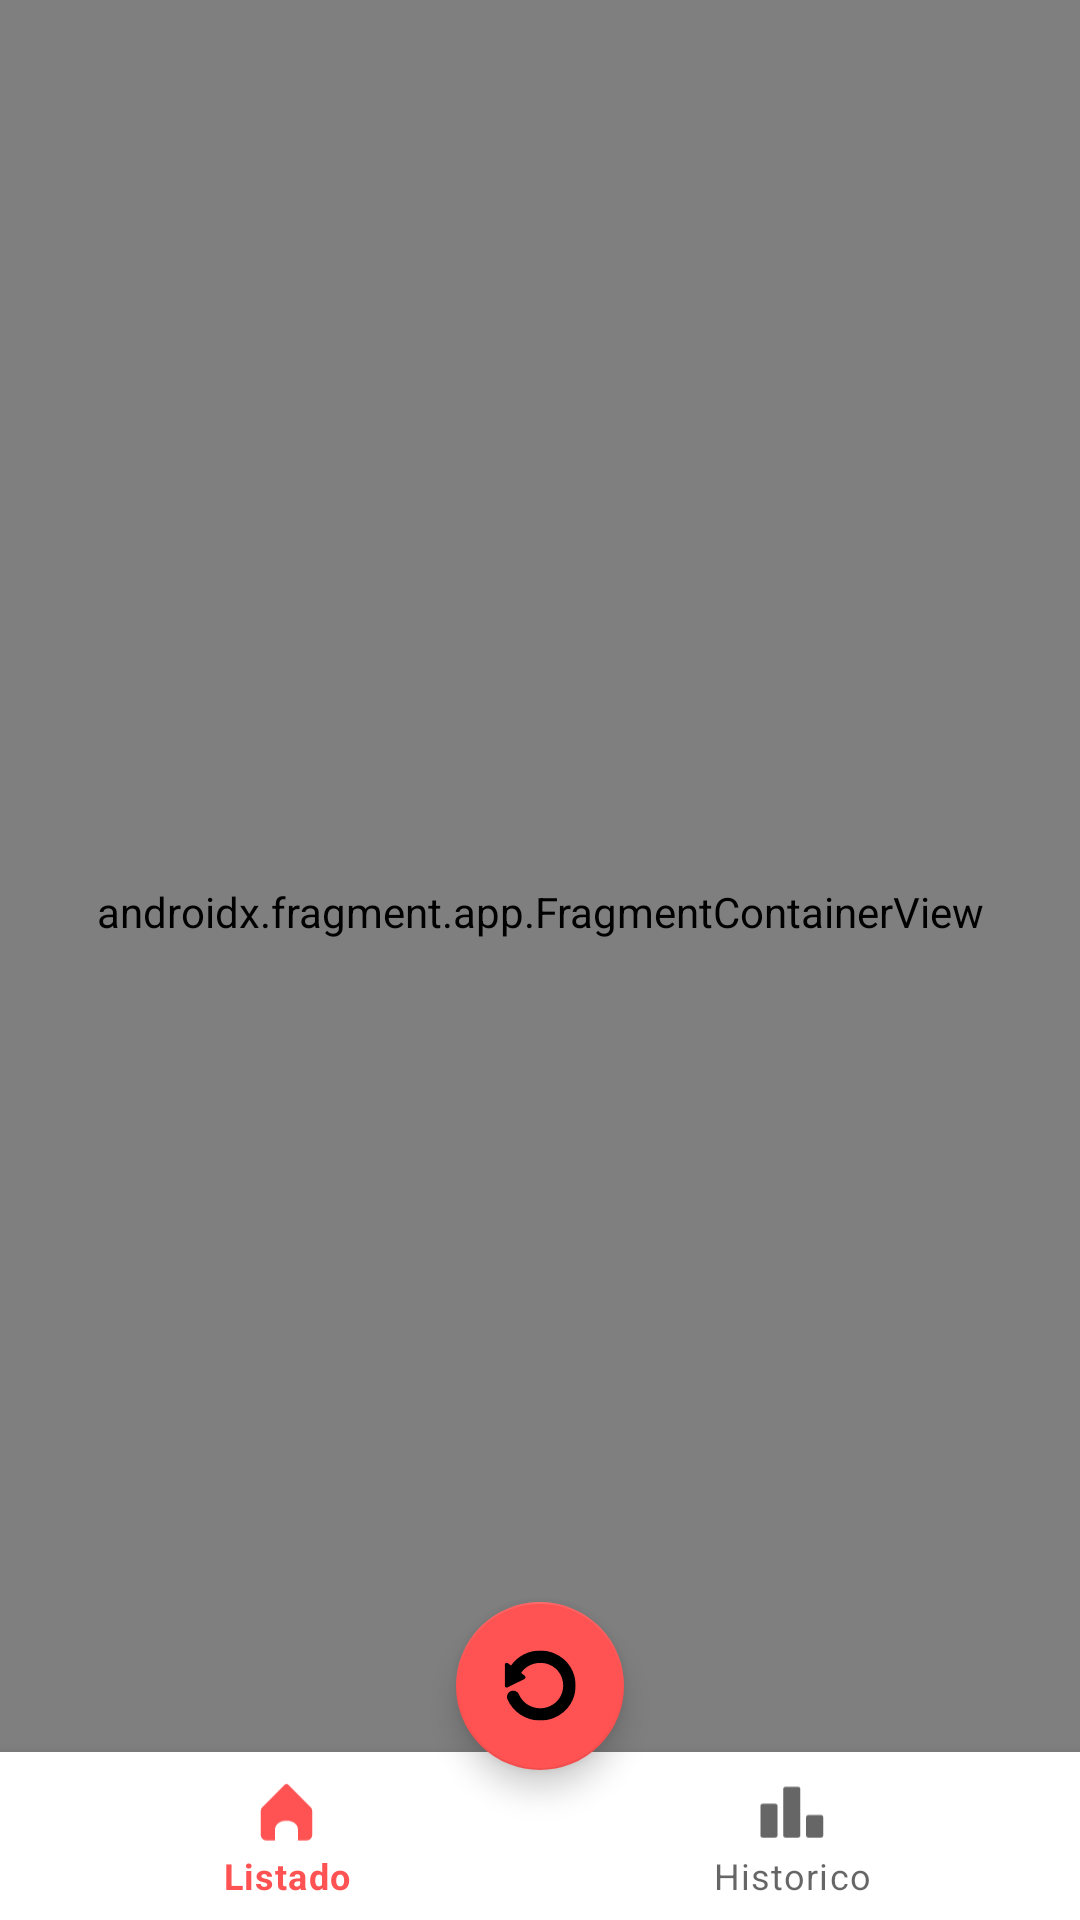

Icon bounding boxes for this 1080 × 1920 phone screenshot, format rect(x1, y1, x2, y2):
arrow refresh: rect(420, 1602, 660, 1824)
